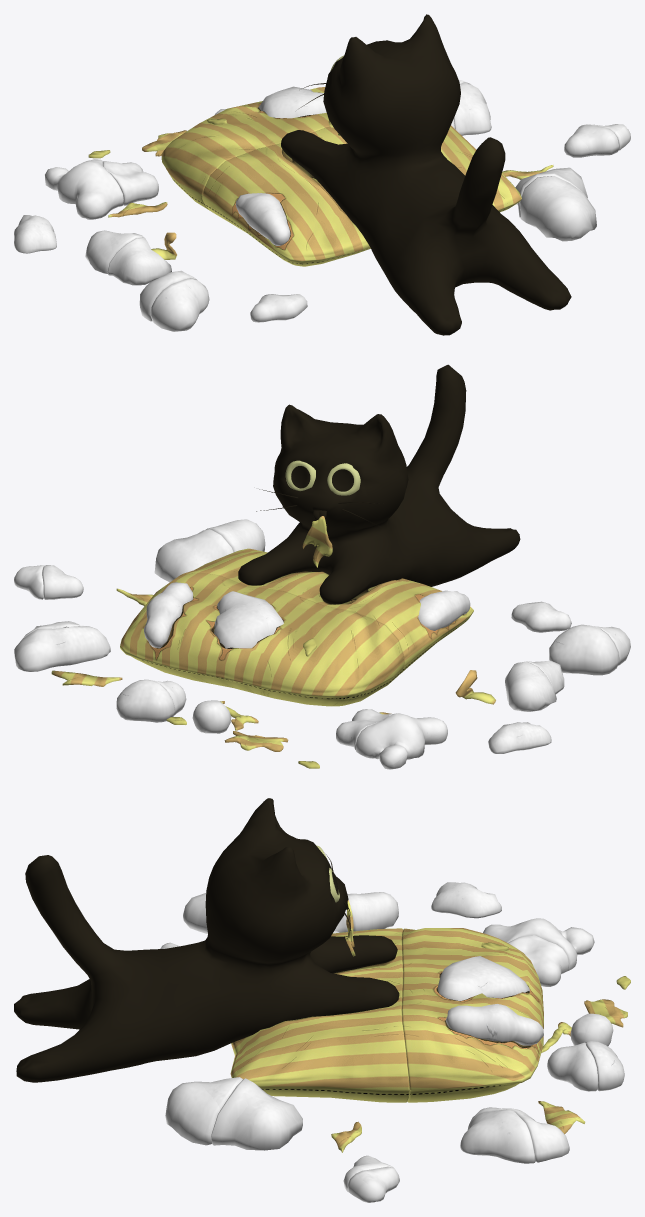
Rendered from Level_P_39.fbx.
The picture shows the model from 3 angles, top to bottom: view 1: azimuth 30°, elevation 25°; view 2: azimuth 150°, elevation 25°; view 3: azimuth 270°, elevation 25°; orthographic projection. The views are drawn at different scales.
Visible parts, largest first — view 1: Cat.001, Pillo.015, Pillo.032, Pillo.007, Pillo.001, Pillo.003, Pillo.002, Pillo.006, Pillo.011, Pillo.029, Pillo.027, Pillo.033 (+7 smaller); view 2: Cat.001, Pillo.032, Pillo.015, Pillo.001, Pillo.009, Pillo.011, Pillo.031, Pillo.025, Pillo.028, Pillo.030, Pillo.010, Pillo.006 (+12 smaller); view 3: Cat.001, Pillo.032, Pillo.015, Pillo.025, Pillo.007, Pillo.027, Pillo.011, Pillo.010, Pillo.001, Pillo.012, Pillo.014, Pillo.029 (+8 smaller).
Part boxes in pixels (x1,y1,x2,y2): Cat.001: (281, 14, 571, 335); Pillo.015: (202, 125, 521, 266); Pillo.032: (161, 87, 329, 214); Pillo.007: (520, 176, 596, 241); Pillo.001: (45, 159, 123, 219); Pillo.003: (150, 278, 209, 331); Pillo.002: (107, 237, 171, 285); Pillo.006: (235, 193, 290, 245); Pillo.011: (258, 86, 326, 118); Pillo.029: (103, 161, 158, 205); Pillo.027: (454, 82, 491, 135); Pillo.033: (564, 124, 618, 157); Cat.001: (238, 364, 520, 604); Pillo.032: (120, 572, 404, 706); Pillo.015: (182, 548, 473, 673); Pillo.001: (356, 713, 447, 769); Pillo.009: (14, 626, 110, 671); Pillo.011: (214, 591, 283, 648); Pillo.031: (549, 624, 619, 675); Pillo.025: (154, 529, 233, 582); Pillo.028: (116, 679, 174, 722); Pillo.030: (505, 661, 556, 711); Pillo.010: (144, 582, 193, 648); Pillo.006: (418, 590, 470, 630); Cat.001: (14, 798, 399, 1082); Pillo.032: (402, 928, 543, 1102); Pillo.015: (230, 928, 409, 1102); Pillo.025: (211, 1078, 302, 1150); Pillo.007: (165, 1077, 242, 1145); Pillo.027: (460, 1109, 535, 1163); Pillo.011: (437, 956, 529, 1000); Pillo.010: (445, 1004, 543, 1045); Pillo.001: (483, 918, 594, 971); Pillo.012: (431, 882, 501, 918); Pillo.014: (547, 1042, 598, 1091); Pillo.029: (508, 935, 569, 986).
Bounding box in the file's own units: 14.94 × 5.43 × 12.68.
